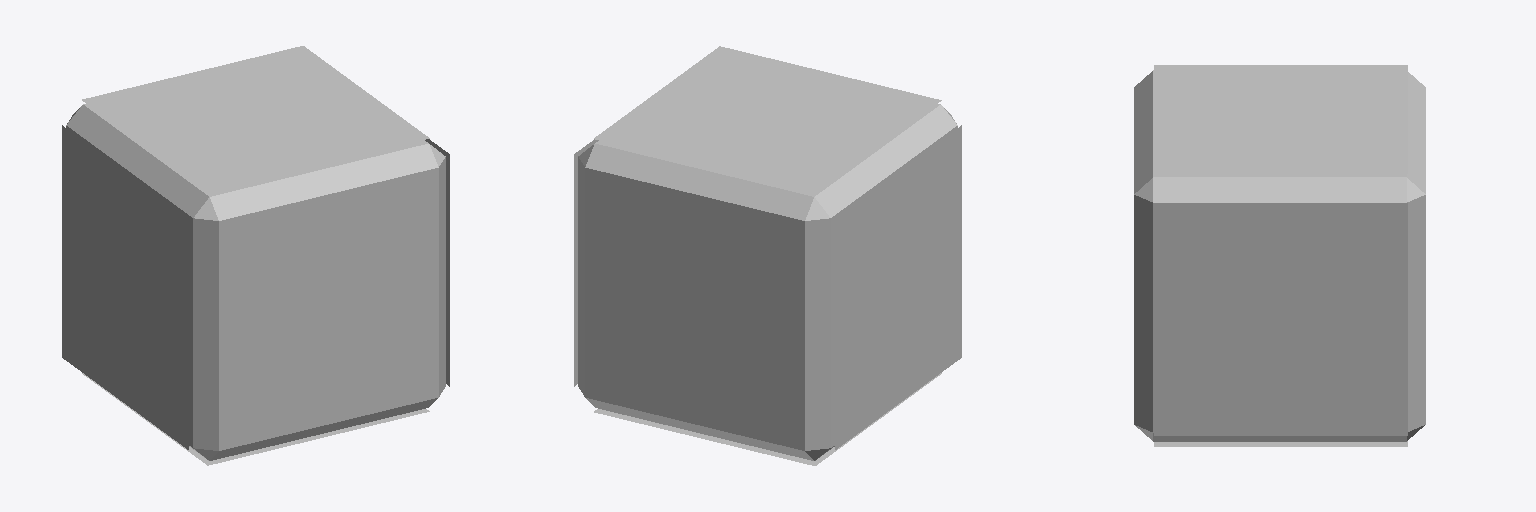
The model's file is Question Block.obj.
The picture shows the model from 3 angles: view 1: azimuth 30°, elevation 25°; view 2: azimuth 150°, elevation 25°; view 3: azimuth 270°, elevation 25°; orthographic projection.
Parts seen in each view (by area): view 1: default; view 2: default; view 3: default.
Part boxes in pixels (bbox=[...]): default: bbox=[62, 46, 449, 465]; default: bbox=[574, 46, 961, 465]; default: bbox=[1134, 65, 1425, 446].
Size of the model in its own units: 10.46 by 10.46 by 10.12.